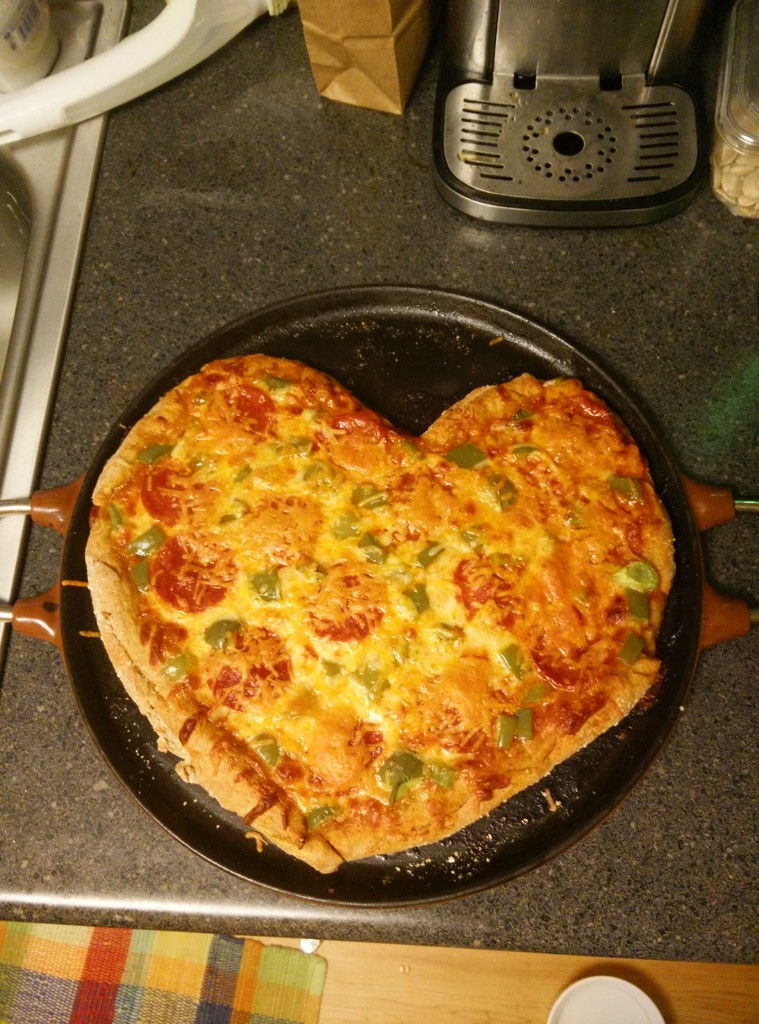Pizza: (83, 347, 663, 874)
